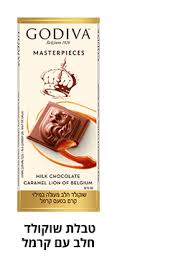Chocolate: (18, 13, 105, 219)
